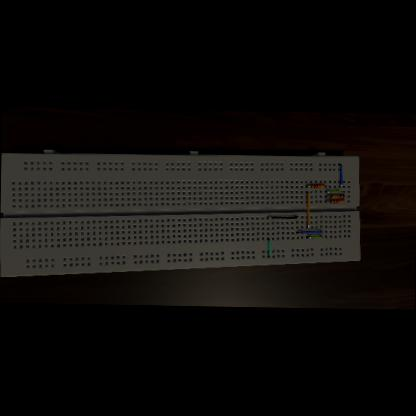breadboard: (0, 147, 361, 283)
resistor: (310, 184, 324, 188), (330, 194, 344, 198), (330, 200, 344, 204)
wire: (304, 192, 310, 228), (296, 230, 322, 234), (266, 216, 298, 219), (338, 164, 342, 187), (267, 238, 270, 258), (324, 190, 341, 192), (306, 236, 323, 238), (324, 200, 330, 202), (306, 186, 311, 187), (325, 186, 326, 186), (324, 196, 330, 196)
